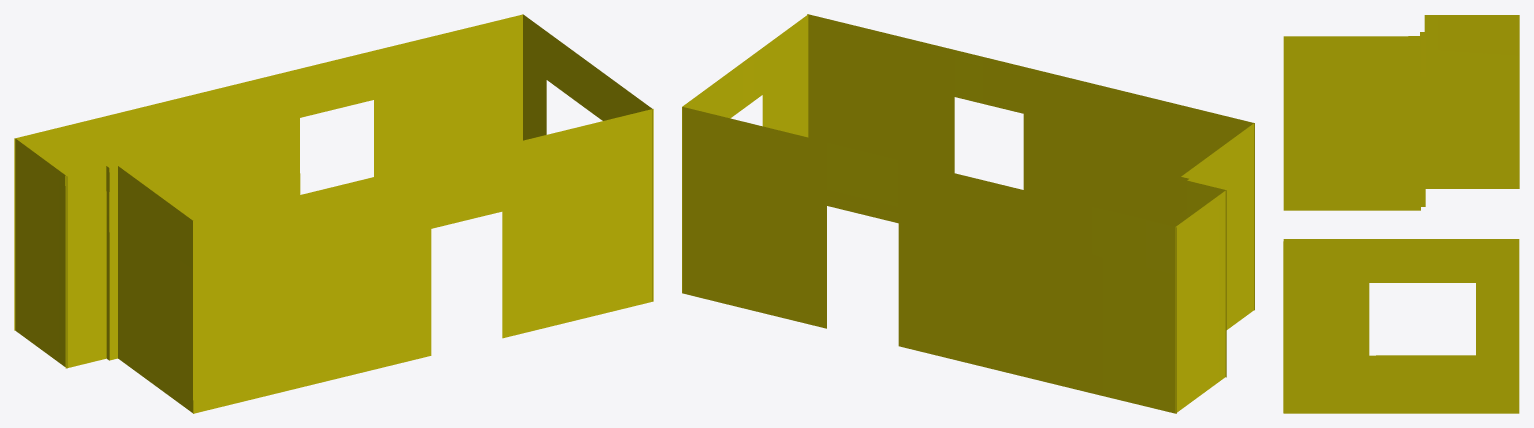
The picture shows the model from 3 angles, left to right: view 1: azimuth 30°, elevation 25°; view 2: azimuth 150°, elevation 25°; view 3: azimuth 270°, elevation 25°; orthographic projection. The views are drawn at different scales.
Visible parts, largest first — view 1: BH03_WP_05; view 2: BH03_WP_05; view 3: BH03_WP_05.
Part boxes in pixels (bbox=[...]): BH03_WP_05: bbox=[14, 14, 653, 413]; BH03_WP_05: bbox=[682, 14, 1254, 413]; BH03_WP_05: bbox=[1283, 15, 1519, 413].
Bounding box in the file's own units: 831 × 300 × 368.
